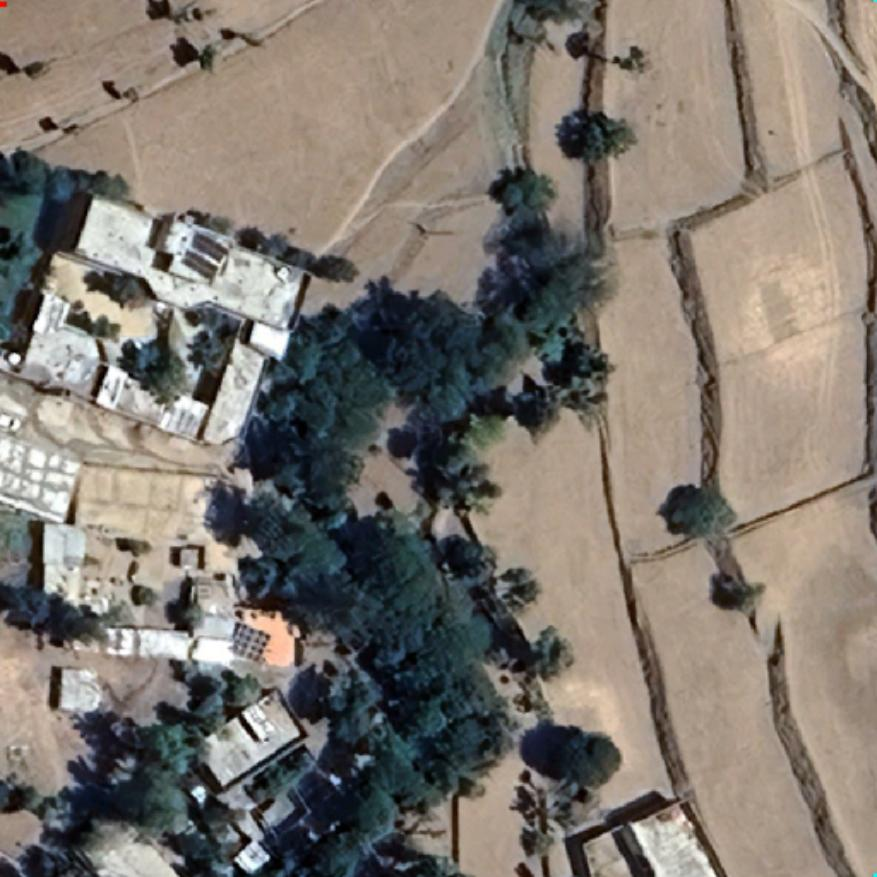Solarpanel: (177, 228, 233, 284), (230, 622, 272, 664)
